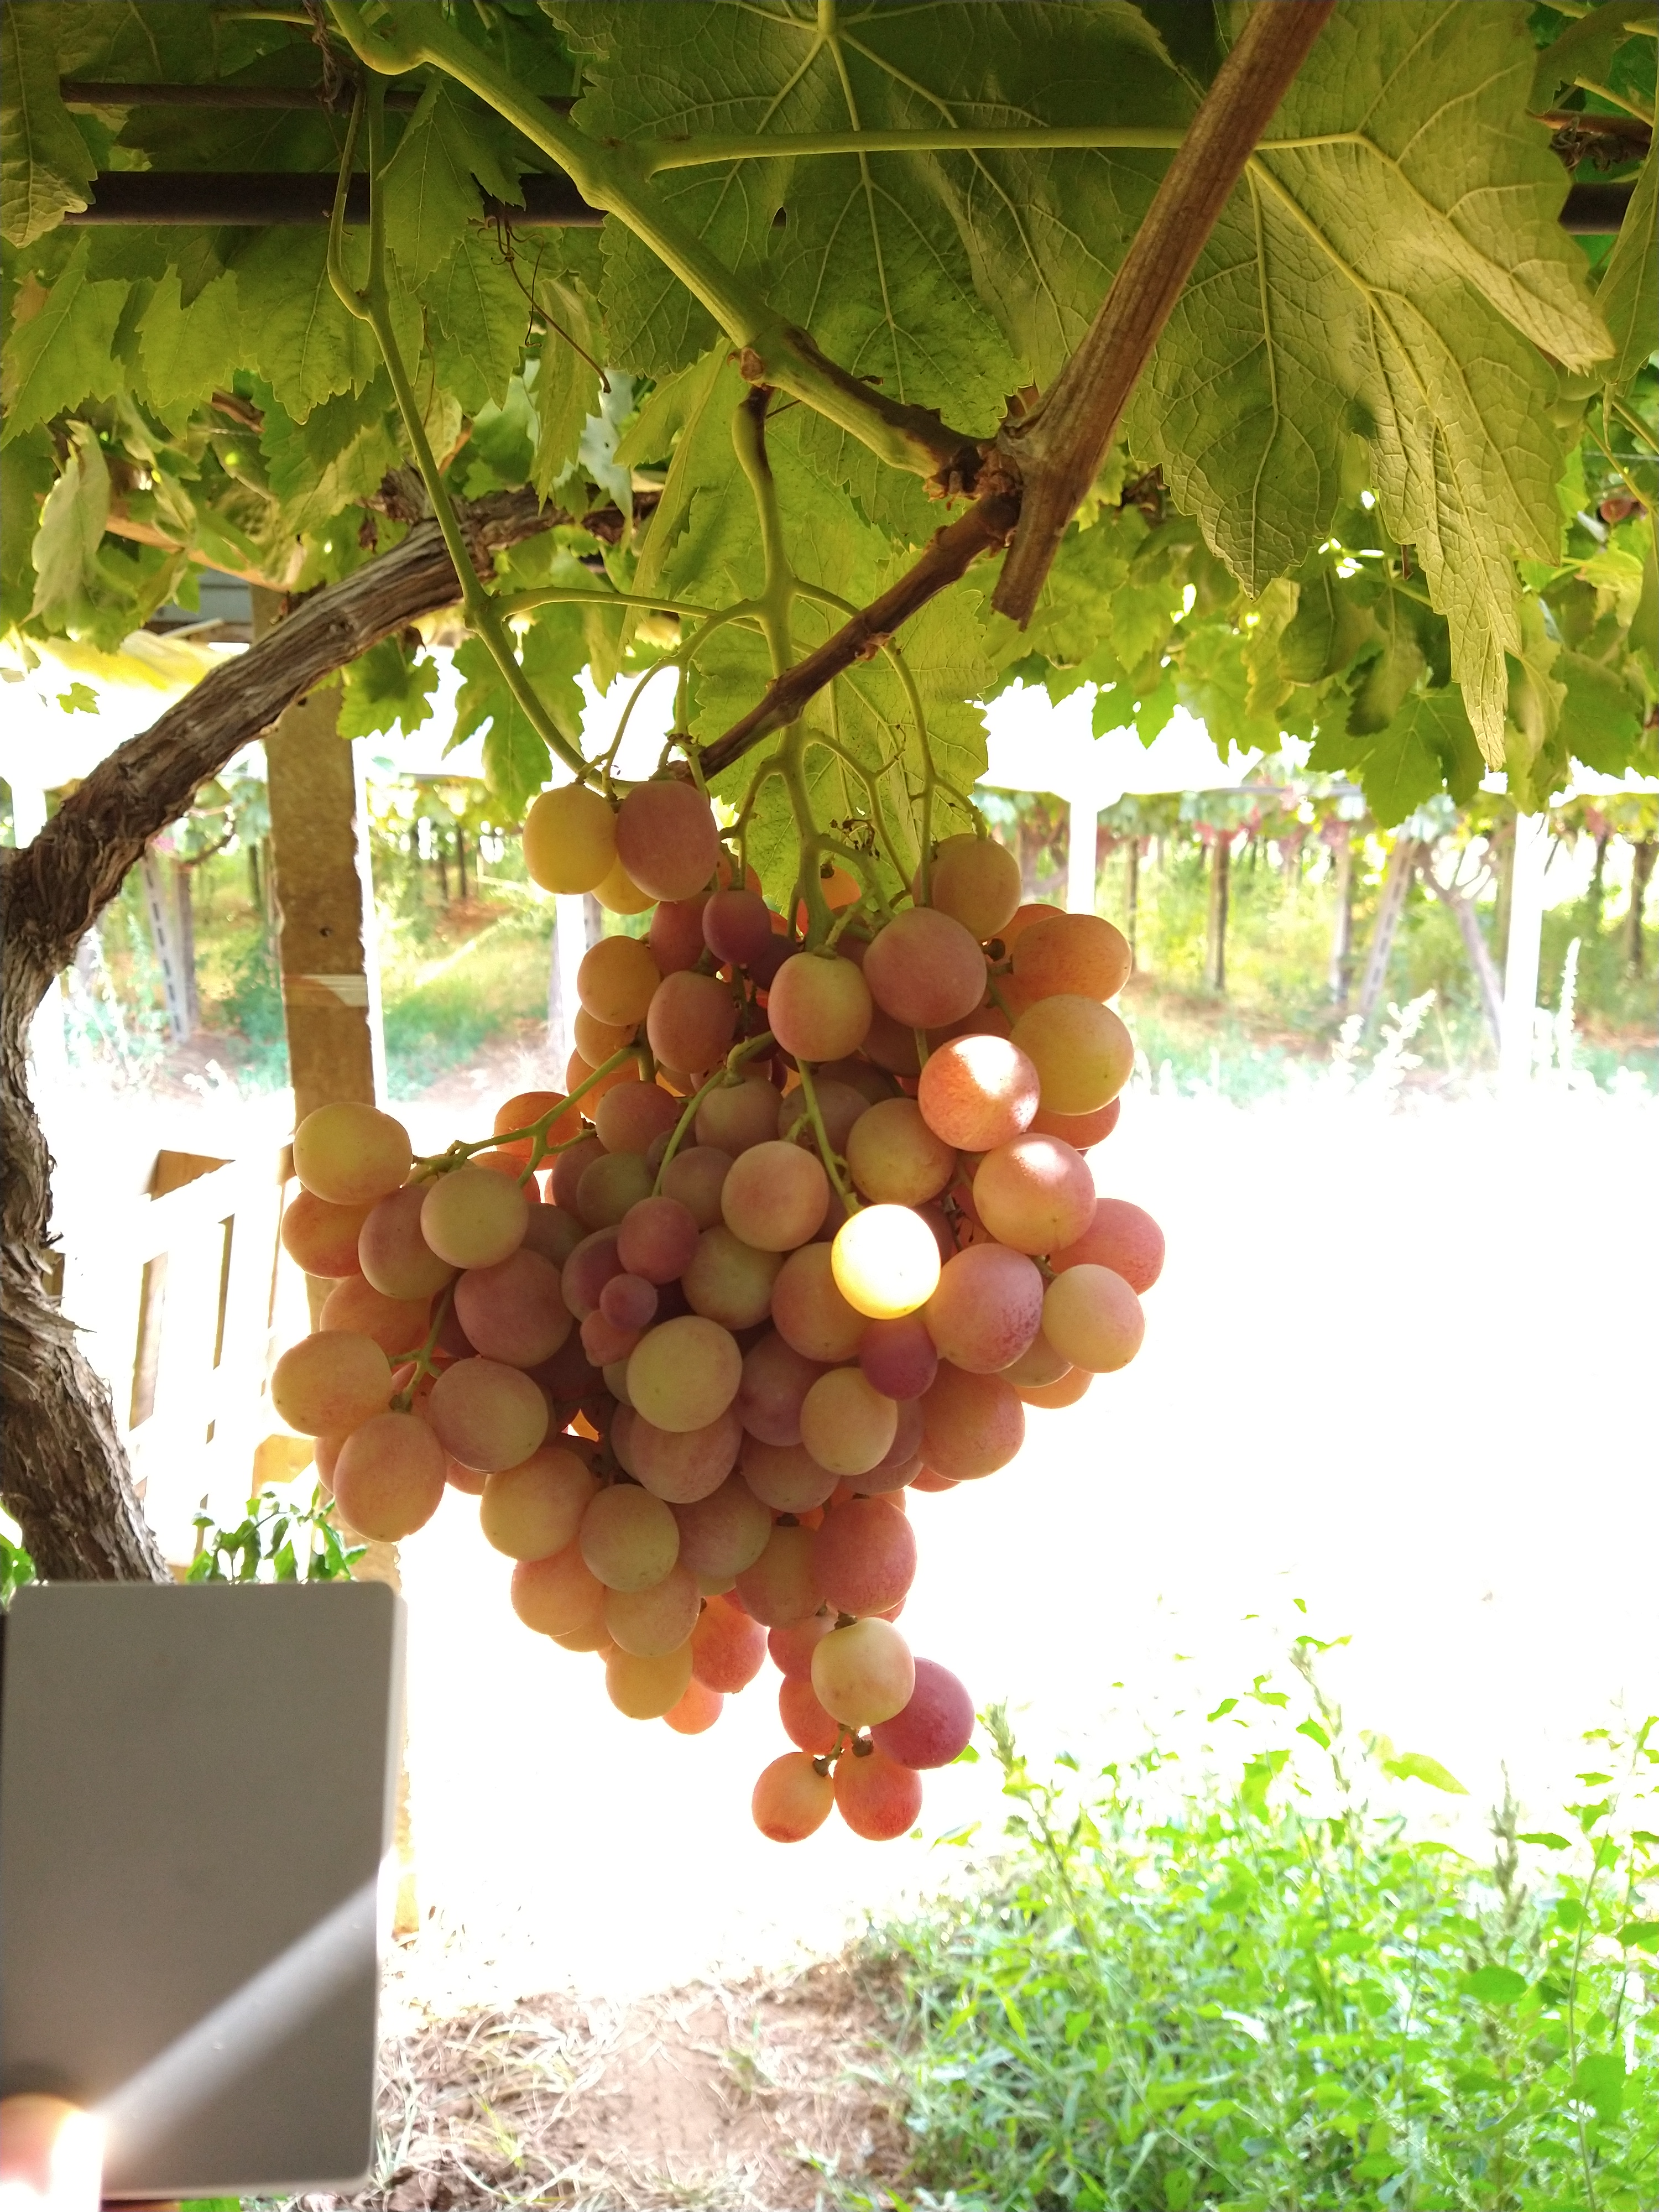acino: (969, 1136, 1100, 1256), (861, 907, 988, 1029), (917, 1031, 1046, 1150), (333, 1414, 448, 1547), (1018, 991, 1136, 1116), (427, 1353, 551, 1472), (626, 1313, 742, 1435), (934, 1244, 1040, 1376), (716, 1132, 830, 1252), (831, 1204, 945, 1322), (453, 1259, 573, 1371), (289, 1099, 413, 1207), (268, 1332, 396, 1435), (807, 1615, 920, 1730), (617, 770, 713, 904), (763, 948, 871, 1064), (816, 1493, 918, 1615), (845, 1097, 957, 1207), (917, 1374, 1026, 1484), (420, 1163, 532, 1270), (1009, 911, 1141, 1000), (1042, 1261, 1148, 1371), (573, 1482, 676, 1592), (877, 1656, 976, 1770), (798, 1367, 901, 1475), (767, 1247, 863, 1359), (523, 784, 619, 892), (356, 1198, 457, 1299), (911, 833, 1025, 920), (647, 967, 741, 1068), (477, 1468, 582, 1559), (735, 1521, 819, 1630), (631, 1423, 742, 1505), (836, 1737, 922, 1838), (511, 1550, 605, 1639), (1084, 1198, 1168, 1296), (577, 934, 666, 1024), (281, 1190, 368, 1277), (749, 1752, 835, 1841), (690, 1595, 765, 1693), (685, 1498, 774, 1578), (615, 1197, 699, 1278), (601, 1646, 692, 1719), (490, 1094, 580, 1167), (859, 1313, 934, 1400), (594, 1082, 680, 1157), (603, 1592, 697, 1660), (704, 883, 770, 974), (701, 1075, 772, 1143), (659, 1683, 721, 1733)
